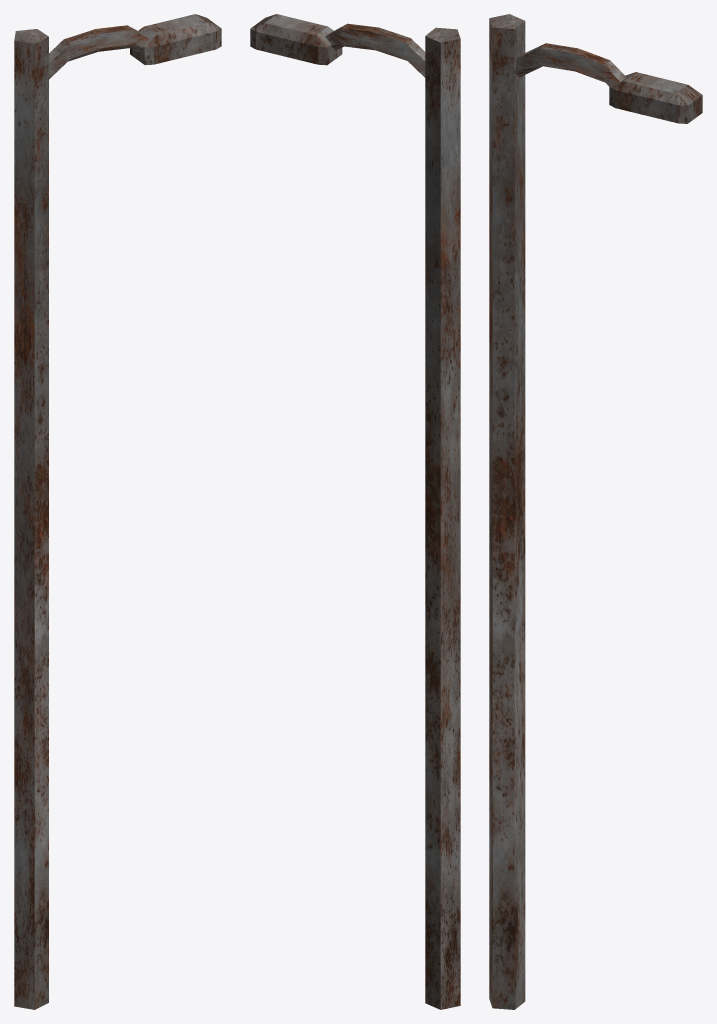
The model's file is Lampara.fbx.
3 views of the same model, side by side, from view 1: azimuth 30°, elevation 25°; view 2: azimuth 150°, elevation 25°; view 3: azimuth 330°, elevation 25° (orthographic).
Visible parts, largest first — view 1: Cube.001; view 2: Cube.001; view 3: Cube.001.
Boxes of the visible parts, x1,y1,x2,y2 form: Cube.001: [14, 14, 221, 1009]; Cube.001: [250, 14, 460, 1009]; Cube.001: [489, 14, 702, 1009].
Size of the model in its own units: 233 by 1070 by 38.43.
